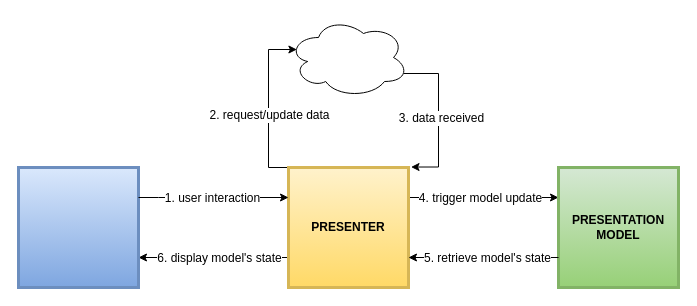
The diagram is 697 pixels wide and 306 high, and some of its shapes have lost their labels. The box of each missing label's shape, as (x1, y1, x2, y2) in pixels:
CLOUD or APP LOGIC: (288, 16, 408, 98)
VIEW: (16, 166, 140, 288)
